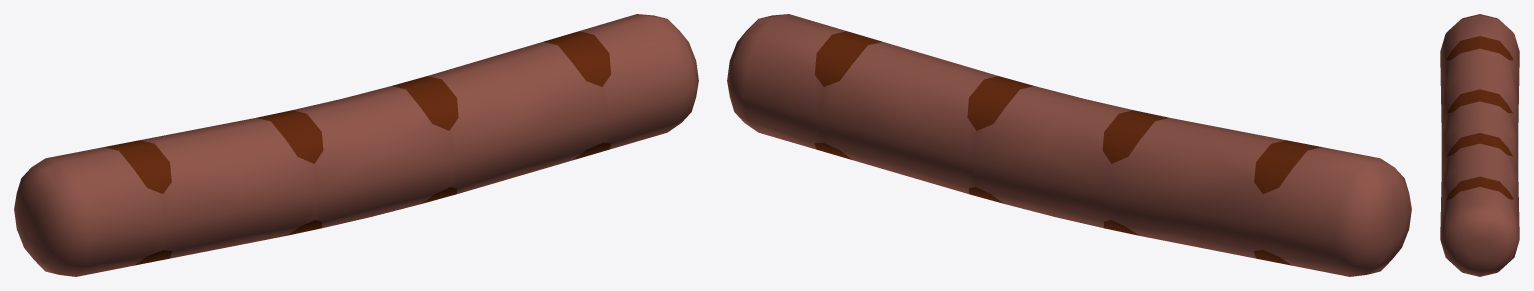
The model's file is Sausage_gril.005.fbx.
3 views of the same model, side by side, from view 1: azimuth 30°, elevation 25°; view 2: azimuth 150°, elevation 25°; view 3: azimuth 270°, elevation 25° (orthographic). The views are drawn at different scales.
Visible parts, largest first — view 1: Sausage_gril.005; view 2: Sausage_gril.005; view 3: Sausage_gril.005.
Boxes of the visible parts, x1=… form: Sausage_gril.005: x1=14, y1=14, x2=698, y2=276; Sausage_gril.005: x1=727, y1=14, x2=1411, y2=276; Sausage_gril.005: x1=1440, y1=14, x2=1519, y2=276.
Size of the model in its own units: 160 by 25.88 by 28.84.
